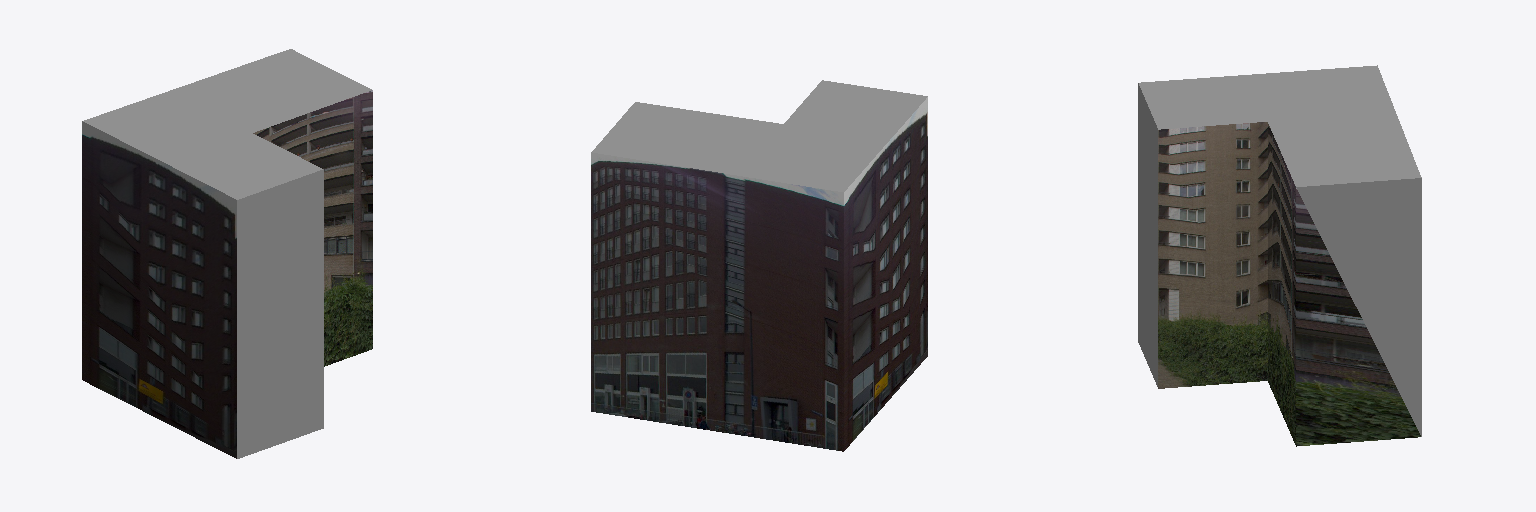
3 renders of one model, left to right at view 1: azimuth 30°, elevation 25°; view 2: azimuth 150°, elevation 25°; view 3: azimuth 270°, elevation 25°, orthographic.
Parts seen in each view (by area): view 1: pand; view 2: pand; view 3: pand.
Part boxes in pixels (bbox=[...]): pand: bbox=[82, 49, 372, 458]; pand: bbox=[591, 80, 927, 451]; pand: bbox=[1138, 65, 1421, 446].
Size of the model in its own units: 29.17 by 28.95 by 28.69.
3 materials, 2 textured.